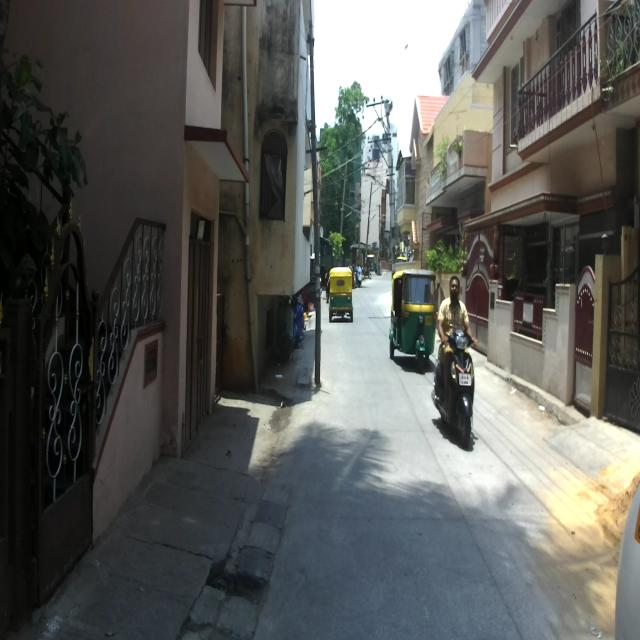auto ahead at: (388, 270, 440, 358)
motorcycle ahead at: (434, 327, 484, 448)
